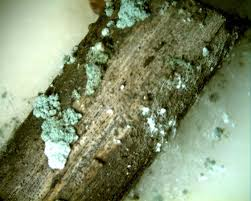Trichoderma: (34, 97, 77, 163), (137, 100, 178, 144), (76, 41, 105, 92), (104, 2, 139, 27)
